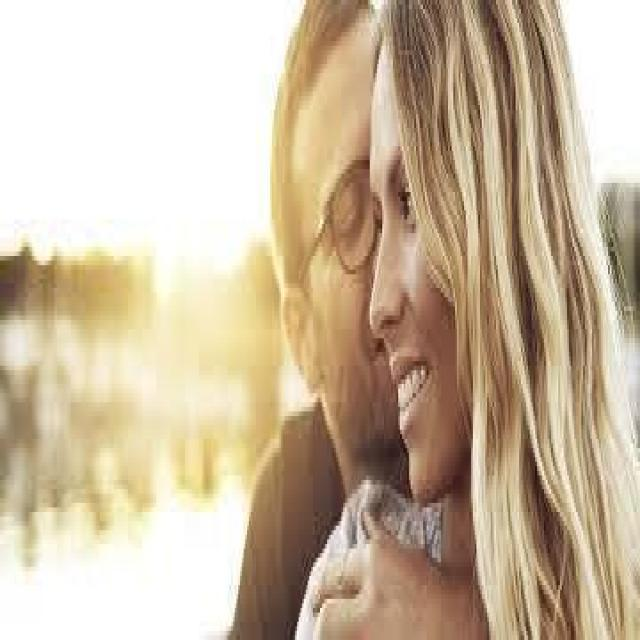person: (359, 4, 619, 636), (215, 0, 430, 635)
